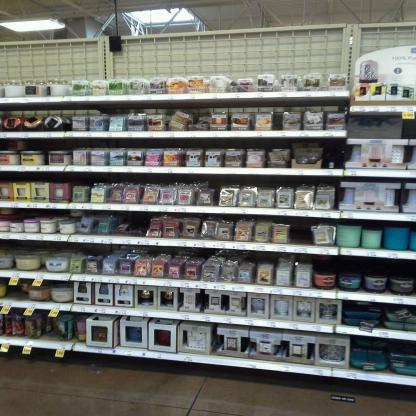Void: (19, 208, 71, 217), (7, 282, 32, 300), (293, 221, 313, 243), (326, 144, 344, 168), (120, 212, 150, 224), (403, 124, 415, 139)
